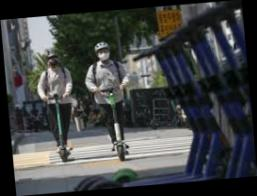helmet: (81, 38, 139, 164), (32, 50, 81, 165)
